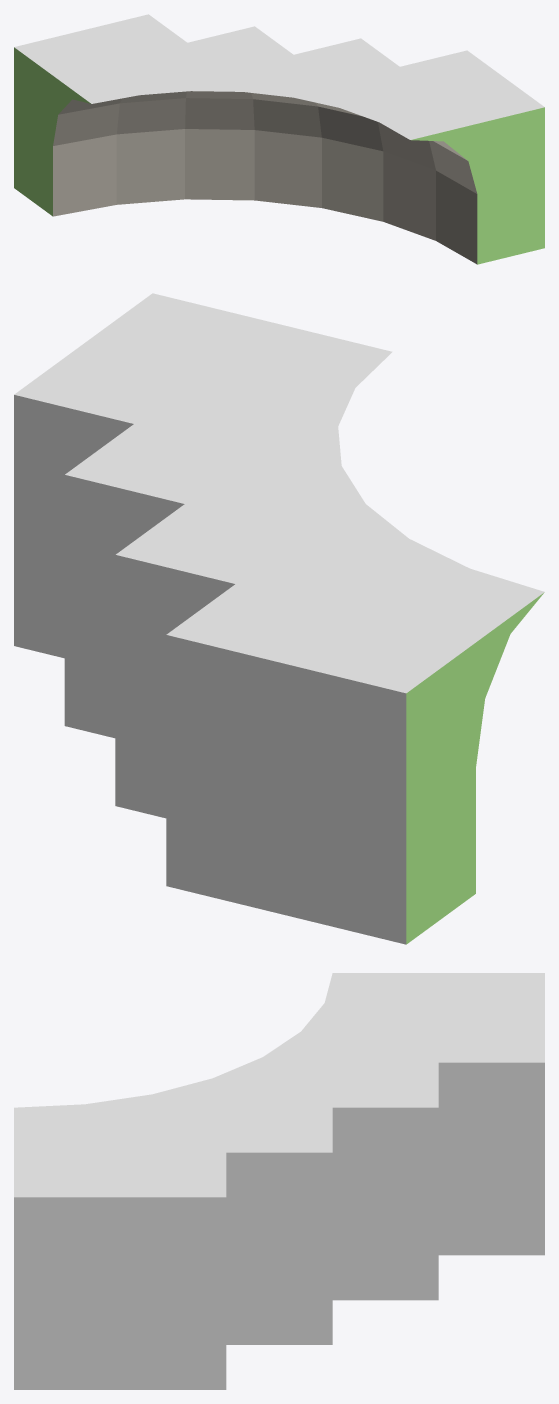
Rendered from Wall_Curve_Inner_5x5_Top.glb.
3 renders of one model, top to bottom at view 1: azimuth 30°, elevation 25°; view 2: azimuth 150°, elevation 25°; view 3: azimuth 270°, elevation 25°, orthographic. The views are drawn at different scales.
Parts seen in each view (by area): view 1: Wall_Curve_Inner_5x5_Top; view 2: Wall_Curve_Inner_5x5_Top; view 3: Wall_Curve_Inner_5x5_Top.
Boxes of the visible parts, x1,y1,x2,y2 form: Wall_Curve_Inner_5x5_Top: [14, 14, 544, 264]; Wall_Curve_Inner_5x5_Top: [14, 293, 544, 944]; Wall_Curve_Inner_5x5_Top: [14, 973, 544, 1389].
Bounding box in the file's own units: 500 × 200 × 500.
